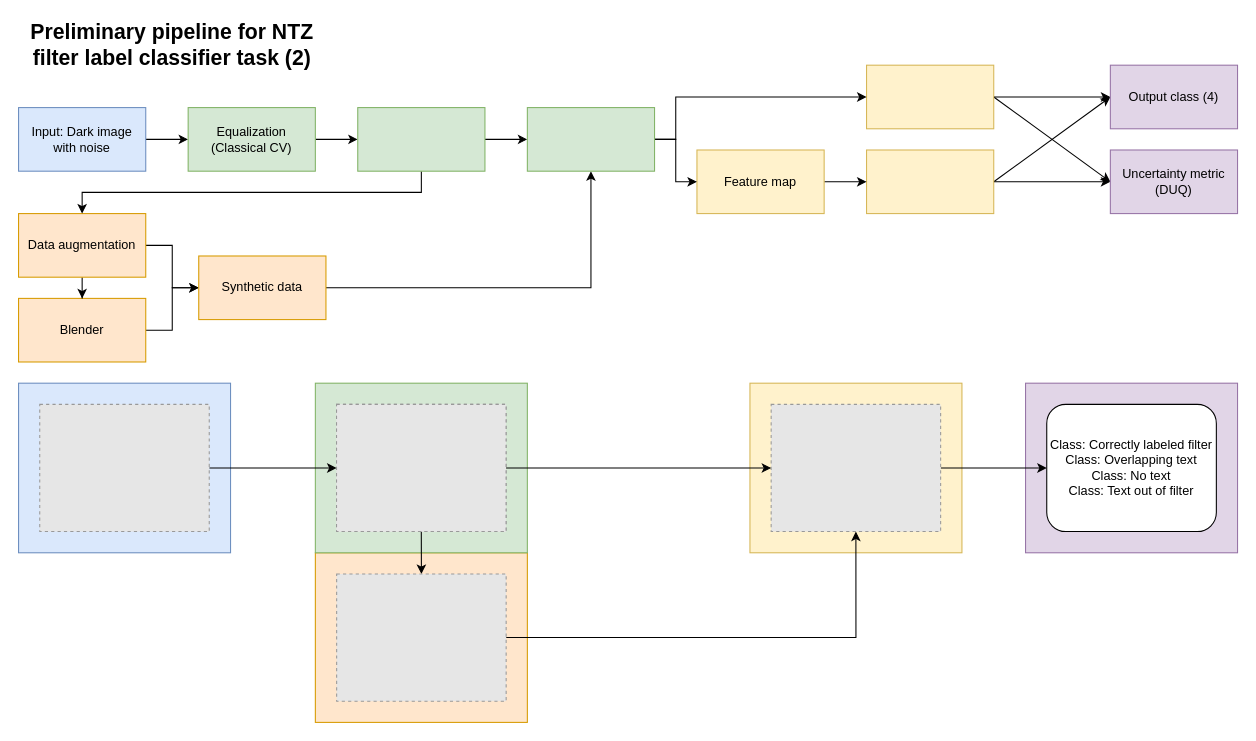
Image size: 1256x741. Some labels were removed from this diagram. Grey dashed boxes stand in for pictures. Here are the shapes that lost their labels. From the top down, the centre of each, then its label:
At point 929,96: "Edge detector/segmentation".
At point 421,139: "Denoiser".
At point 590,139: "Cleaned + Augmented".
At point 929,181: "Pre-trained model (Autoencoder architecture)".
